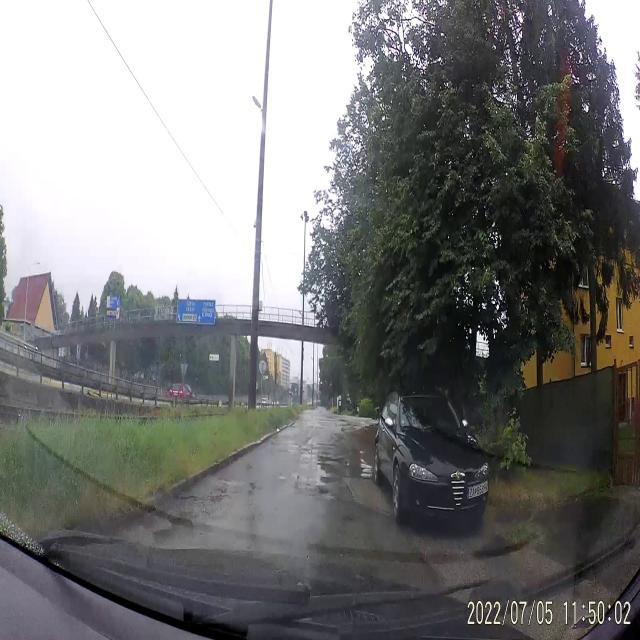Pothole: (313, 457, 337, 503)
